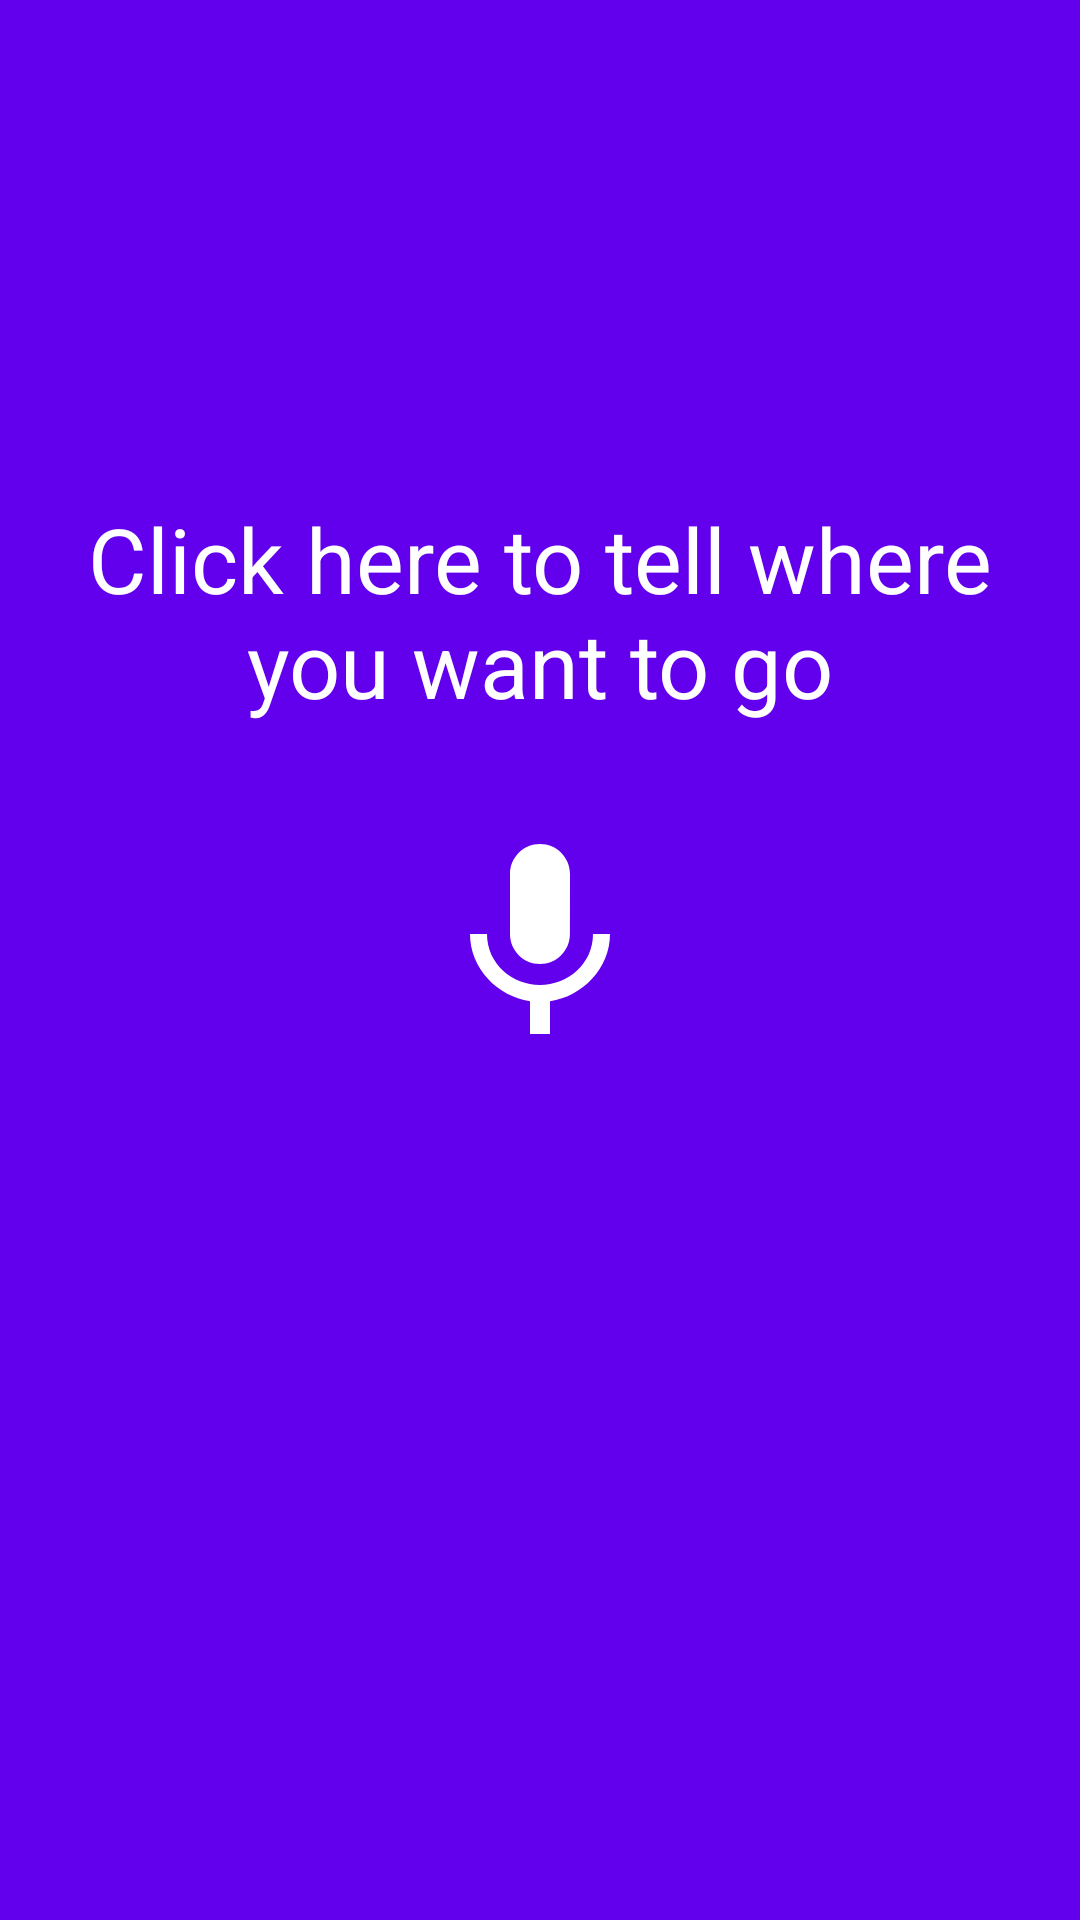

Icons on this 1080 x 1920 Android screen, each with the point to tap as point (x, y):
keyboard voice: point (540, 939)
